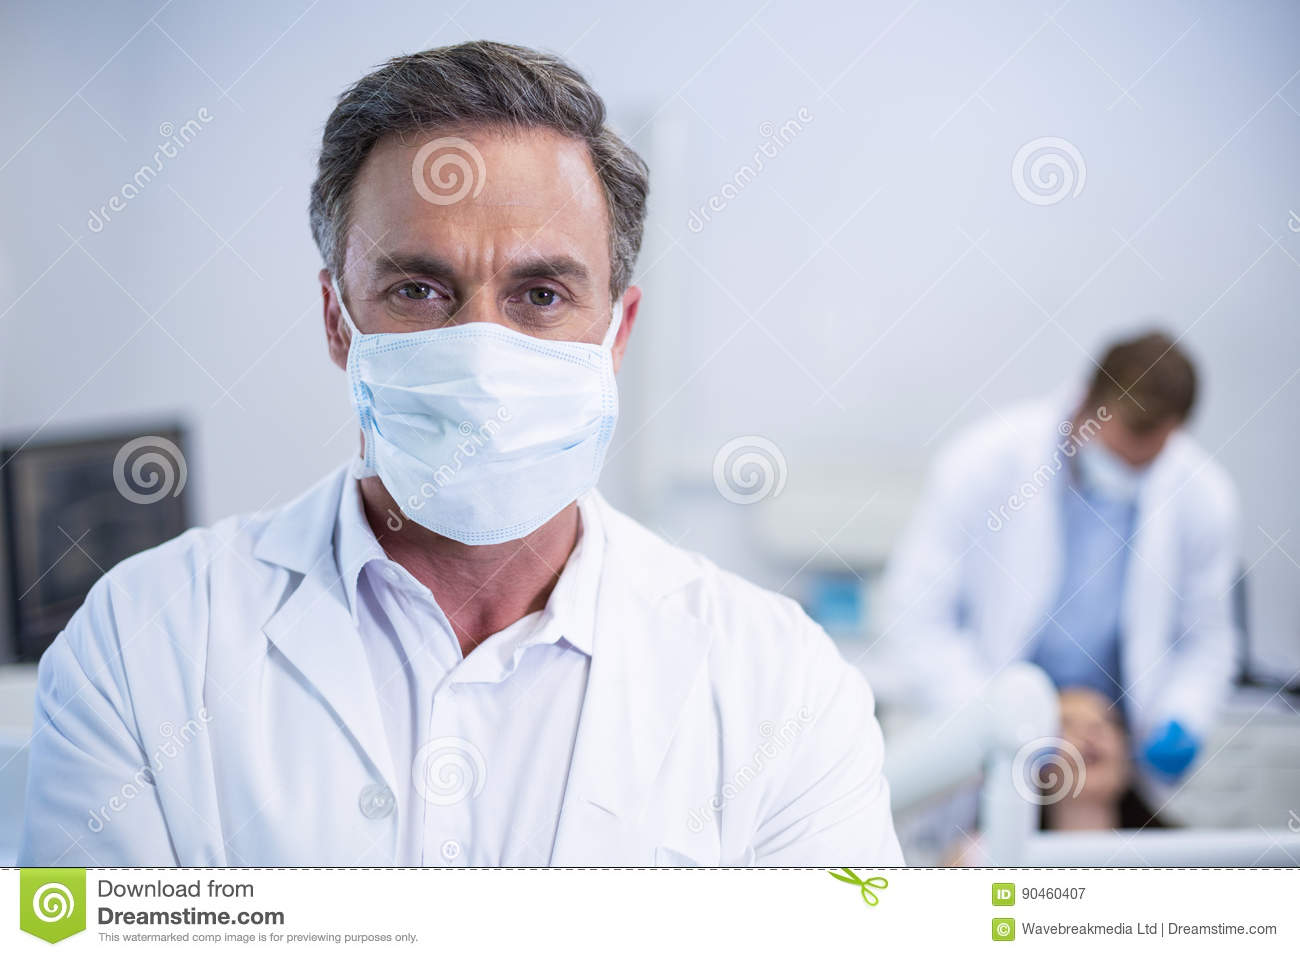mask: (333, 320, 623, 536)
